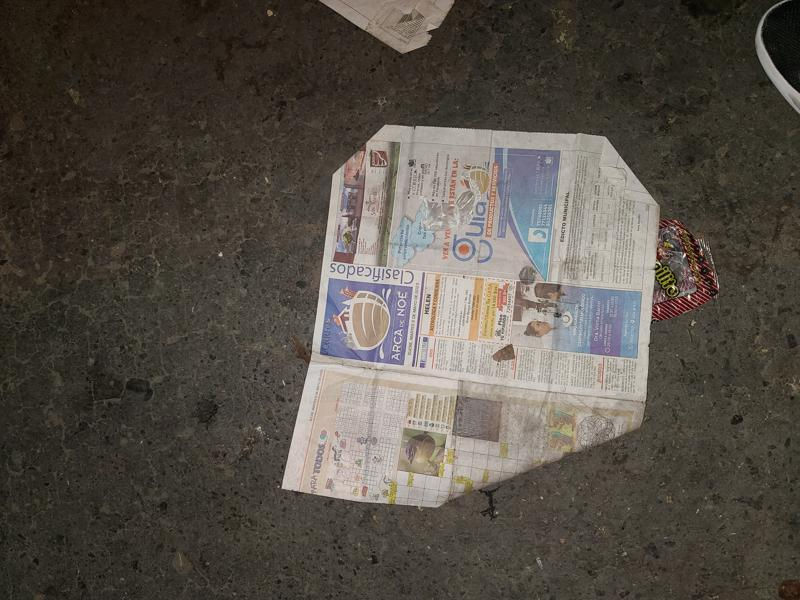papel: (282, 125, 665, 511)
